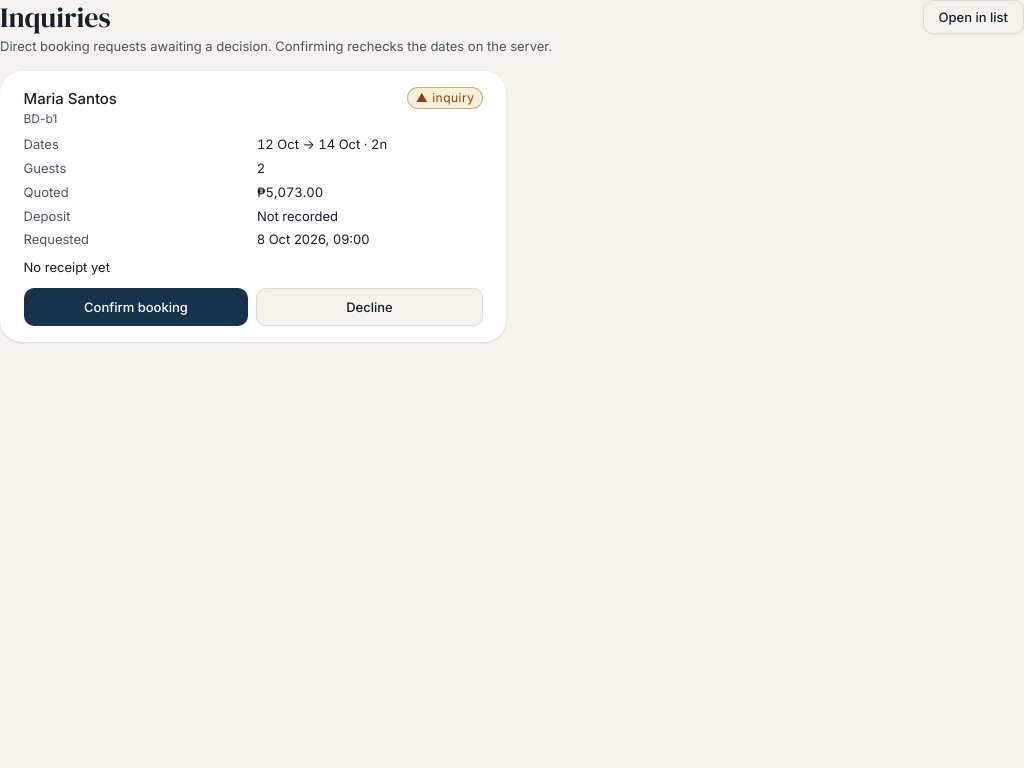
Test case: field errors are tied to their inputs for screen readers
The image size is (1024, 768).
What coordinates should you click on to do the following:
click the button "Confirm booking"
I would click on:
 (136, 307)
Its box is [24,288,248,326].
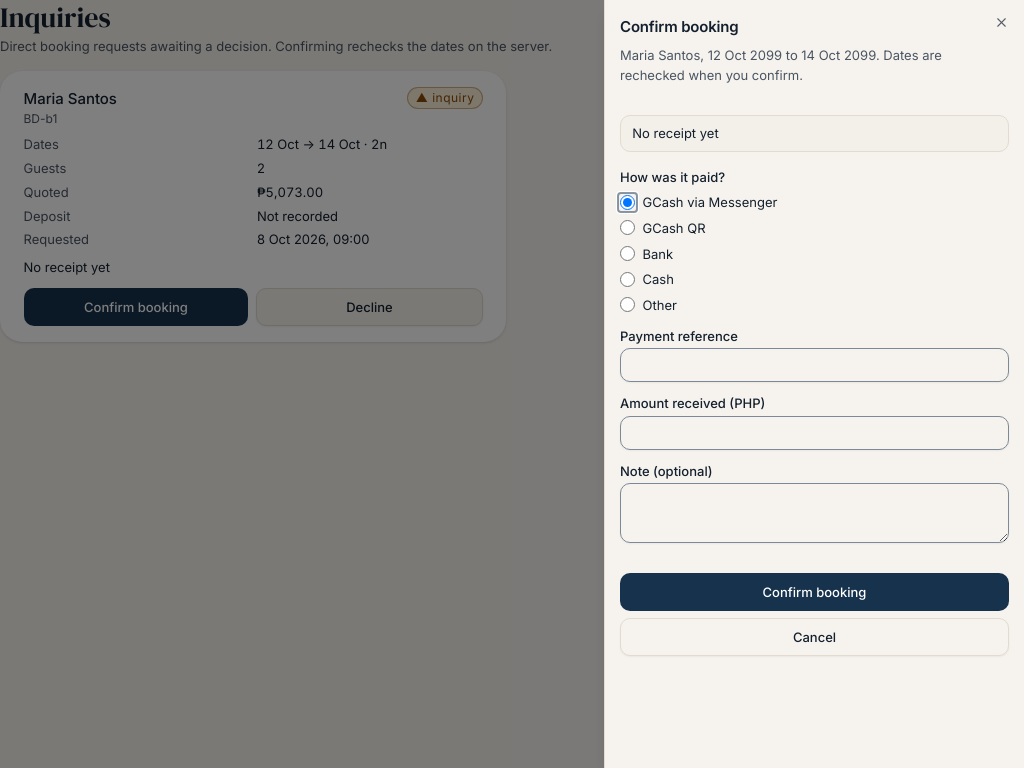
What coordinates should you click on to do the following:
click the button "Confirm booking"
I would click on:
 (814, 592)
Its box is [620,573,1009,611].
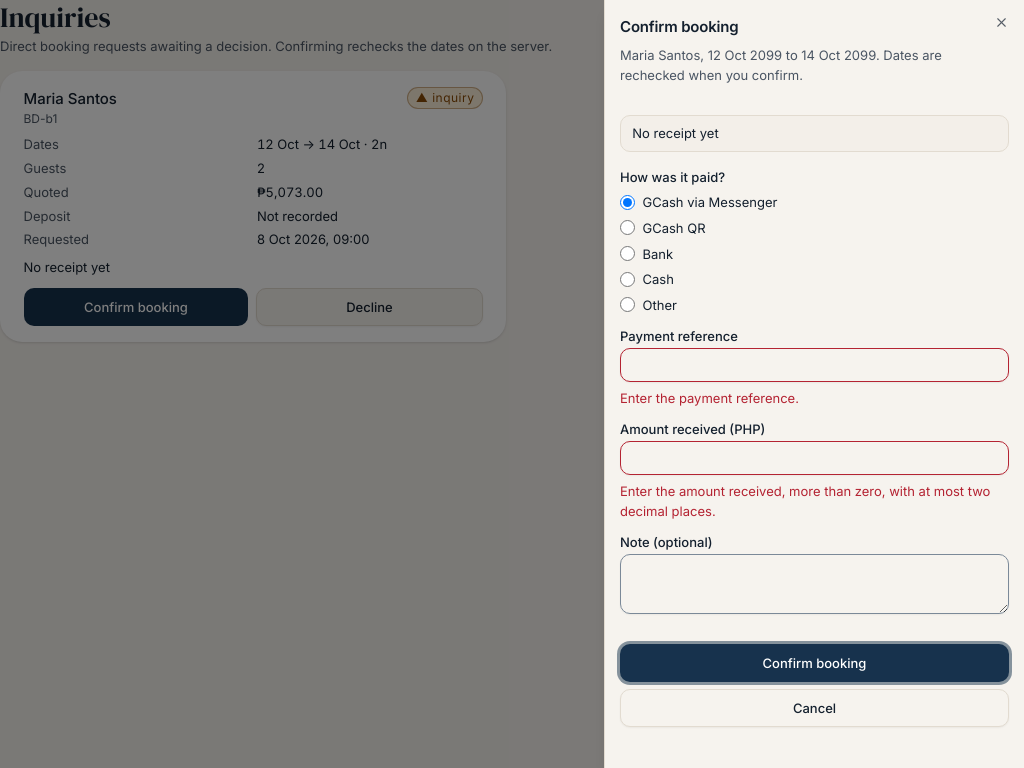
Now the text "Enter the payment reference." is shown, box [620,390,799,406]
